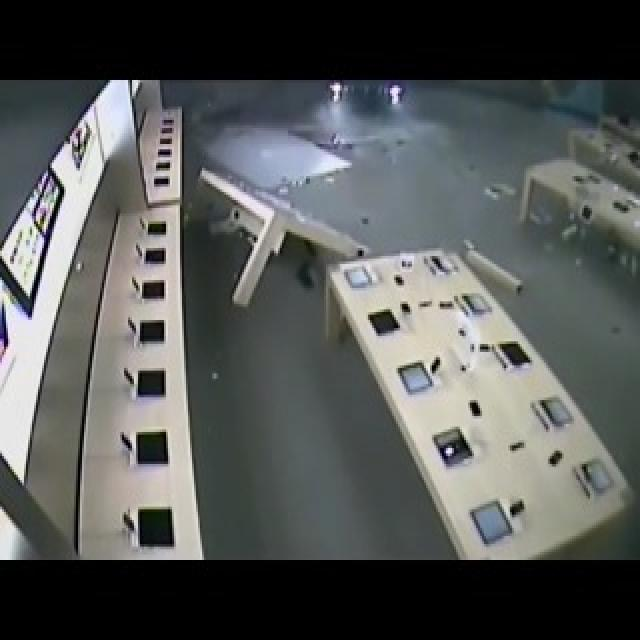burglary: (315, 82, 418, 125)
